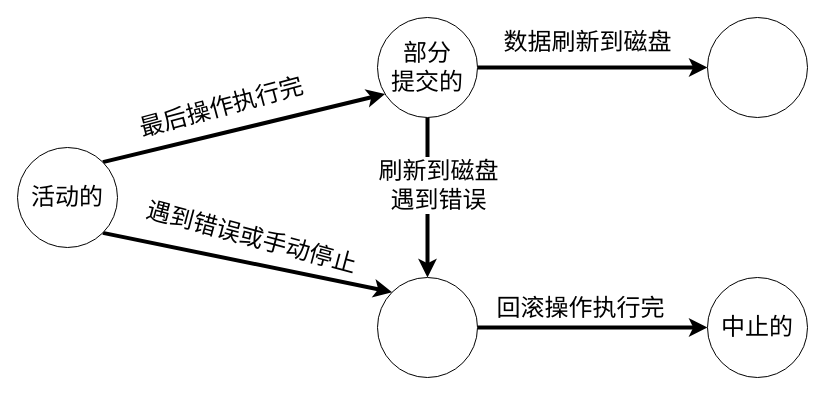
This 825x395 diagram has some shape labels left out. The centre of each missing label's shape, as x and y in pixels:
失败的: (427,327)
提交的: (757,67)
